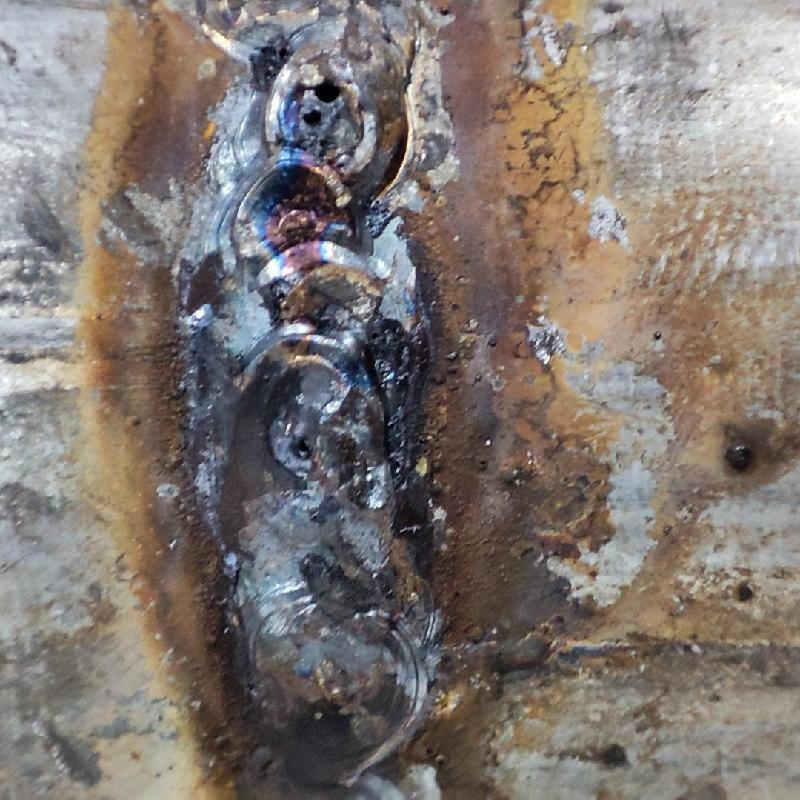Surface_pores: (269, 60, 353, 139)
crater: (170, 4, 413, 477)
